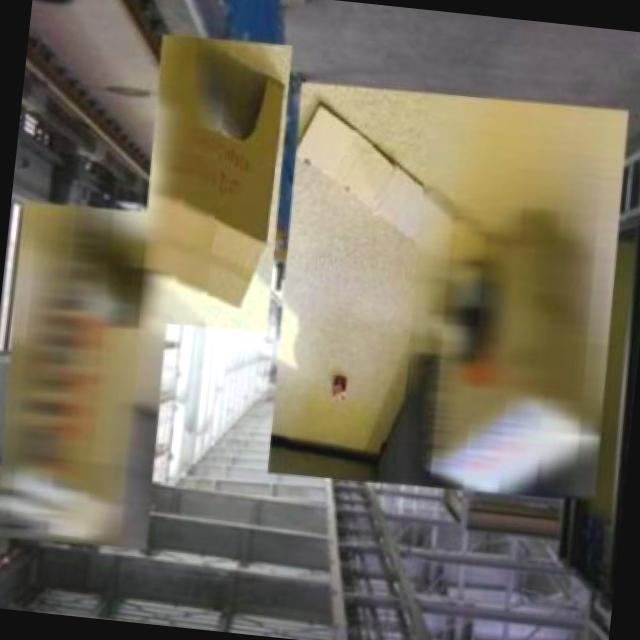box: (254, 67, 640, 512), (0, 191, 184, 555), (129, 25, 301, 338)
